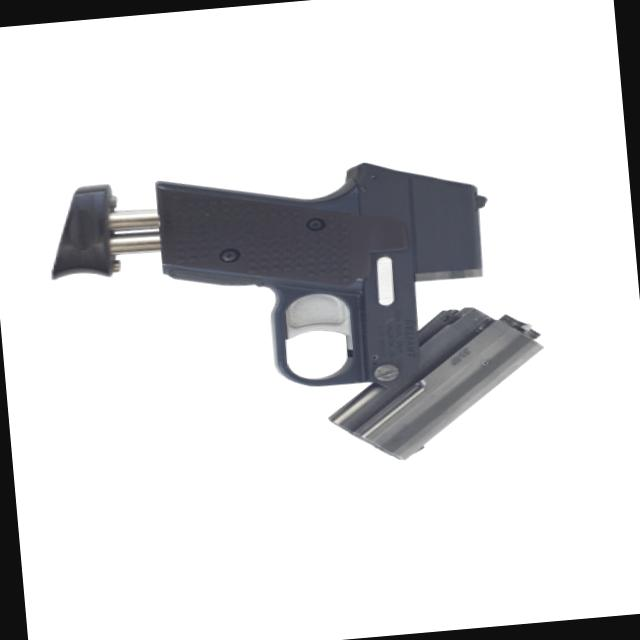handgun: (30, 104, 552, 502)
